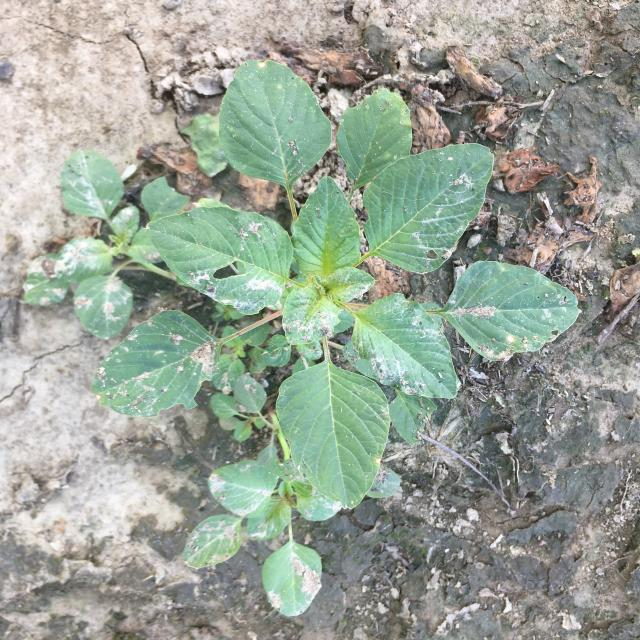PalmerAmaranth: (24, 59, 580, 617)
